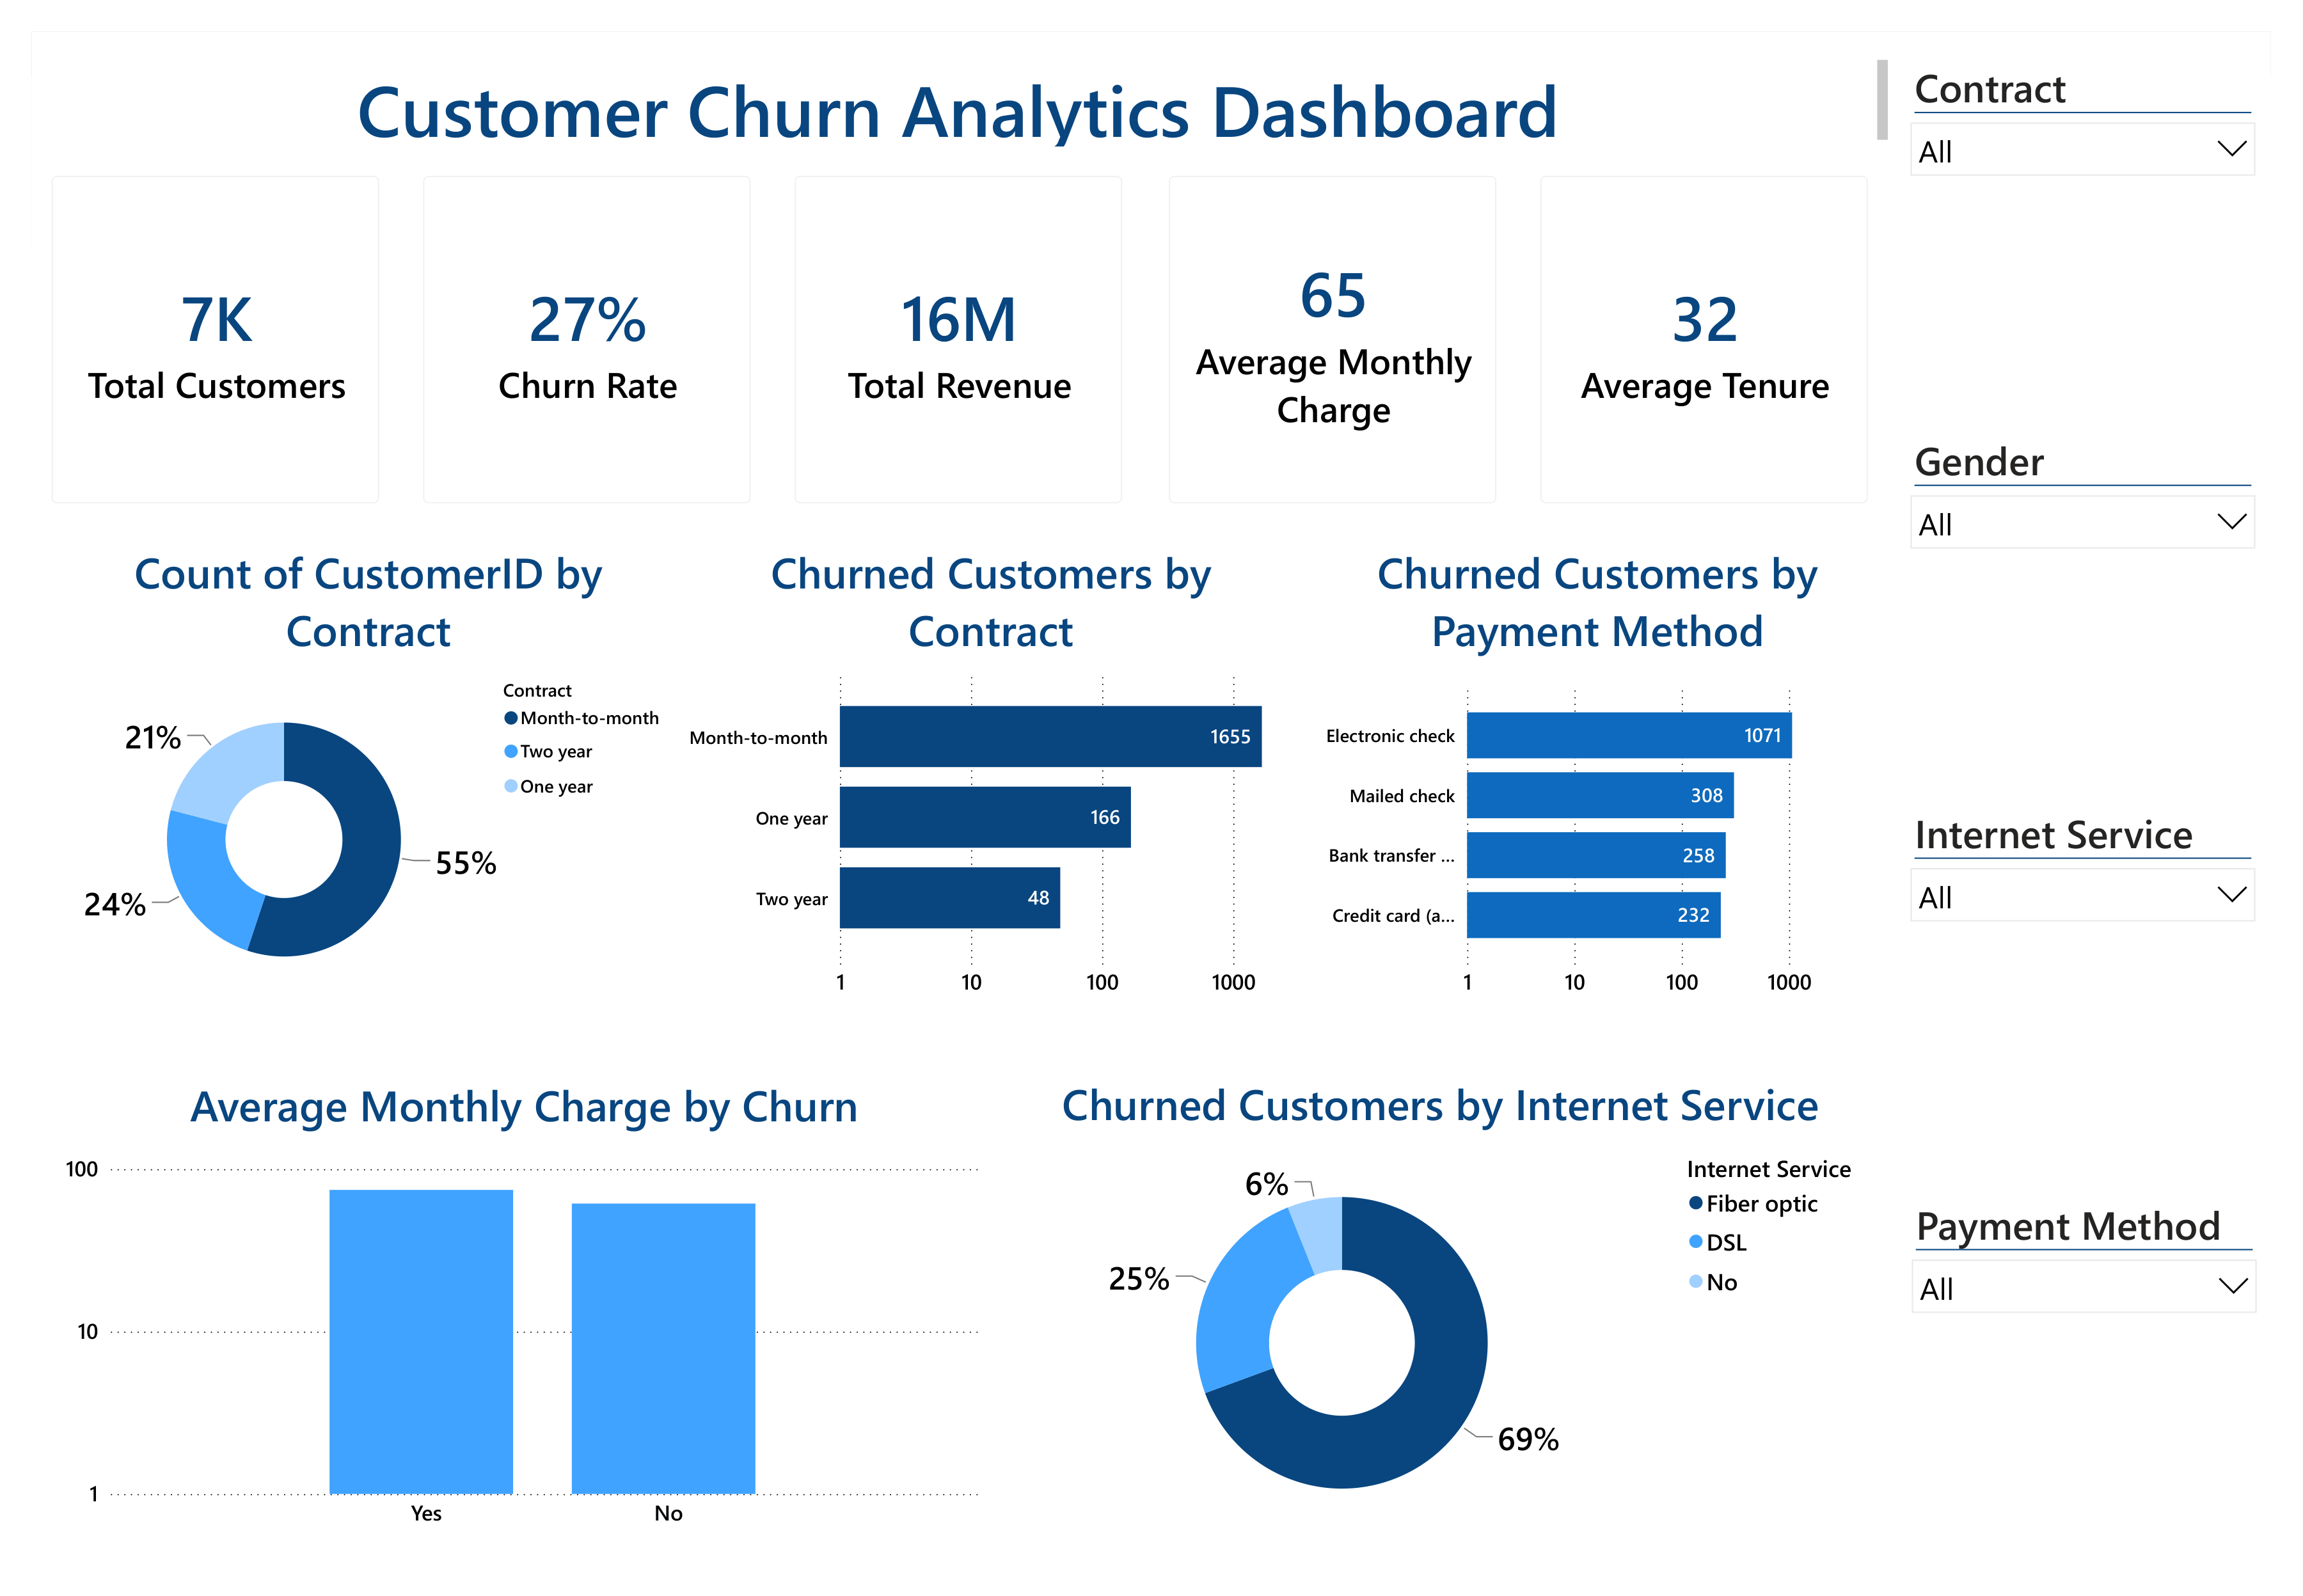

The page's visual inventory and layout, read from the dashboard file:
{"tool":"powerbi","page":{"name":"Page 1","canvas":[1680,1150],"ordinal":0},"visuals":[{"type":"cardVisual","fields":{"Data":["CustomerChurn.Total Customers"]},"box":[-3.2,91.2,280,280],"z":0},{"type":"cardVisual","fields":{"Data":["CustomerChurn.Churn Rate"]},"box":[275.7,91.2,280,280],"z":1000},{"type":"cardVisual","fields":{"Data":["CustomerChurn.Total Revenue"]},"box":[554.6,91.2,280,280],"z":2000},{"type":"cardVisual","fields":{"Data":["CustomerChurn.Average Monthly Charge"]},"box":[836.2,91.2,280,280],"z":3000},{"type":"cardVisual","fields":{"Data":["CustomerChurn.Average Tenure"]},"box":[1115.2,91.2,280,280],"z":4000},{"type":"donutChart","fields":{"Category":["CustomerChurn.Contract"],"Y":["CountNonNull(CustomerChurn.CustomerID)"]},"box":[19.3,383,466,350],"z":5000},{"type":"clusteredBarChart","fields":{"Category":["CustomerChurn.Contract"],"Y":["CustomerChurn.Churned Customers"]},"box":[486,383,466.7,350.8],"z":6000},{"type":"clusteredBarChart","title":"Churned Customers by Payment Method","fields":{"Category":["CustomerChurn.PaymentMethod"],"Y":["CustomerChurn.Churned Customers"]},"box":[952.6,383,444.1,350.8],"z":7000},{"type":"donutChart","title":"Churned Customers by Internet Service","fields":{"Category":["CustomerChurn.InternetService"],"Y":["CustomerChurn.Churned Customers"]},"box":[719,782,675.9,350.8],"z":8000},{"type":"columnChart","fields":{"Category":["CustomerChurn.Churn"],"Y":["CustomerChurn.Average Monthly Charge"]},"box":[19,783,700,350],"z":9000},{"type":"slicer","fields":{"Values":["CustomerChurn.Contract"]},"box":[1400,16.1,279,280],"z":11000},{"type":"slicer","fields":{"Values":["CustomerChurn.Gender"]},"box":[1400,296.1,279,280],"z":12000},{"type":"slicer","fields":{"Values":["CustomerChurn.PaymentMethod"]},"box":[1400.8,870.2,279.2,279.2],"z":13000},{"type":"slicer","fields":{"Values":["CustomerChurn.InternetService"]},"box":[1400,576.1,279,280],"z":14000},{"type":"textbox","box":[0,16.2,1397.5,75],"z":15000}]}

Visuals, with their boxes on the page's 1680x1150 design canvas (x1, y1, x2, y2). These are canvas units, not pixel positions in the 2303x1596 screenshot, which may show the page scaled, cropped or inside an application window:
cardVisual - CustomerChurn.Total Customers: -3, 91, 277, 371
cardVisual - CustomerChurn.Churn Rate: 276, 91, 556, 371
cardVisual - CustomerChurn.Total Revenue: 555, 91, 835, 371
cardVisual - CustomerChurn.Average Monthly Charge: 836, 91, 1116, 371
cardVisual - CustomerChurn.Average Tenure: 1115, 91, 1395, 371
donutChart - CustomerChurn.Contract x CountNonNull(CustomerChurn.CustomerID): 19, 383, 485, 733
clusteredBarChart - CustomerChurn.Contract x CustomerChurn.Churned Customers: 486, 383, 953, 734
"Churned Customers by Payment Method" clusteredBarChart: 953, 383, 1397, 734
"Churned Customers by Internet Service" donutChart: 719, 782, 1395, 1133
columnChart - CustomerChurn.Churn x CustomerChurn.Average Monthly Charge: 19, 783, 719, 1133
slicer - CustomerChurn.Contract: 1400, 16, 1679, 296
slicer - CustomerChurn.Gender: 1400, 296, 1679, 576
slicer - CustomerChurn.PaymentMethod: 1401, 870, 1680, 1149
slicer - CustomerChurn.InternetService: 1400, 576, 1679, 856
textbox: 0, 16, 1398, 91
